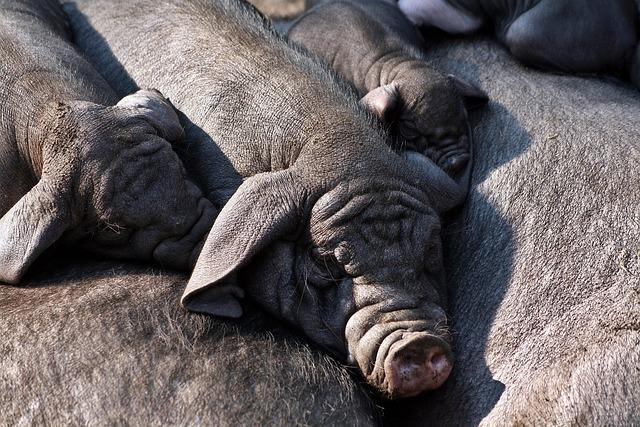Non_Gorille: (51, 17, 553, 391)
